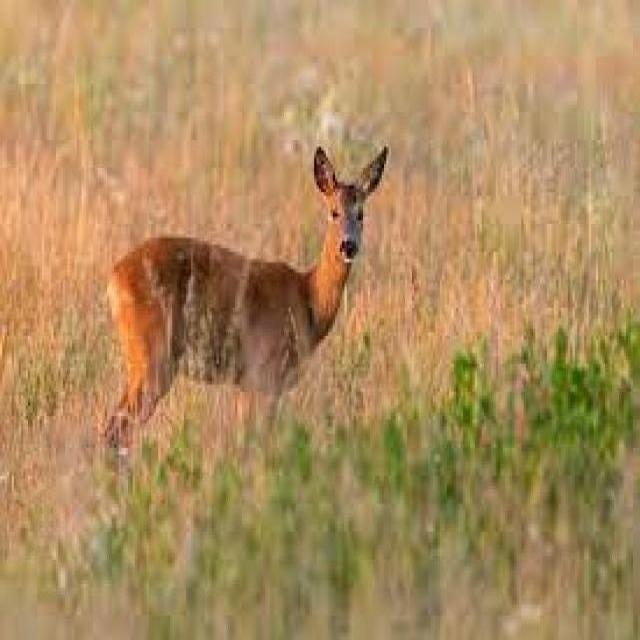deer: (88, 142, 392, 470)
